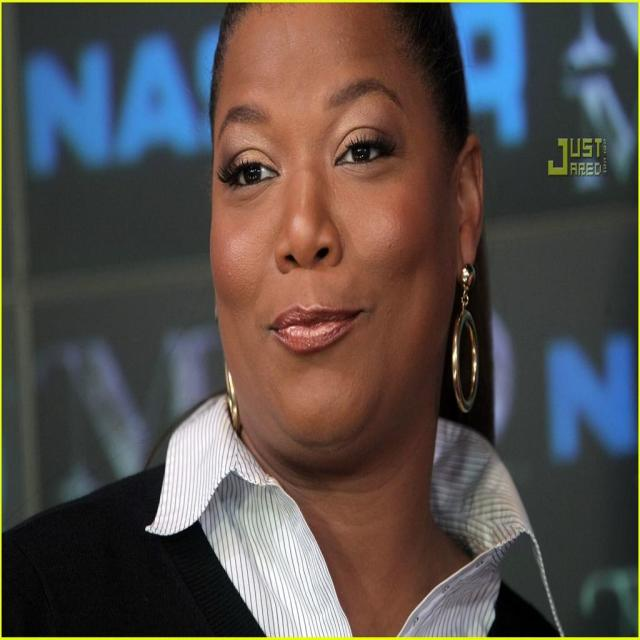Face: (220, 19, 448, 456)
